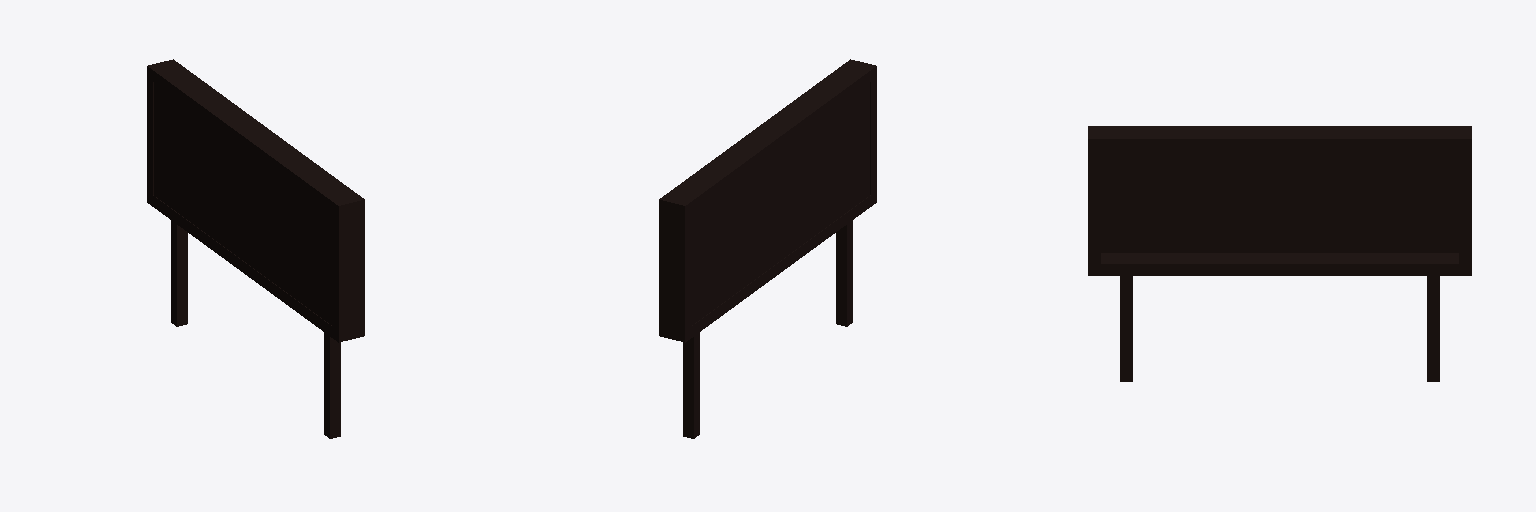
The model's file is flagcount-frame.obj.
3 renders of one model, left to right at view 1: azimuth 30°, elevation 25°; view 2: azimuth 150°, elevation 25°; view 3: azimuth 270°, elevation 25°, orthographic.
Visible parts, largest first — view 1: Cube.004; view 2: Cube.004; view 3: Cube.004.
Part boxes in pixels (left/top/right/bottom): Cube.004: left=147, top=59, right=364, bottom=438; Cube.004: left=659, top=59, right=876, bottom=438; Cube.004: left=1088, top=126, right=1471, bottom=381.
Size of the model in its own units: 0.24 by 2.13 by 3.